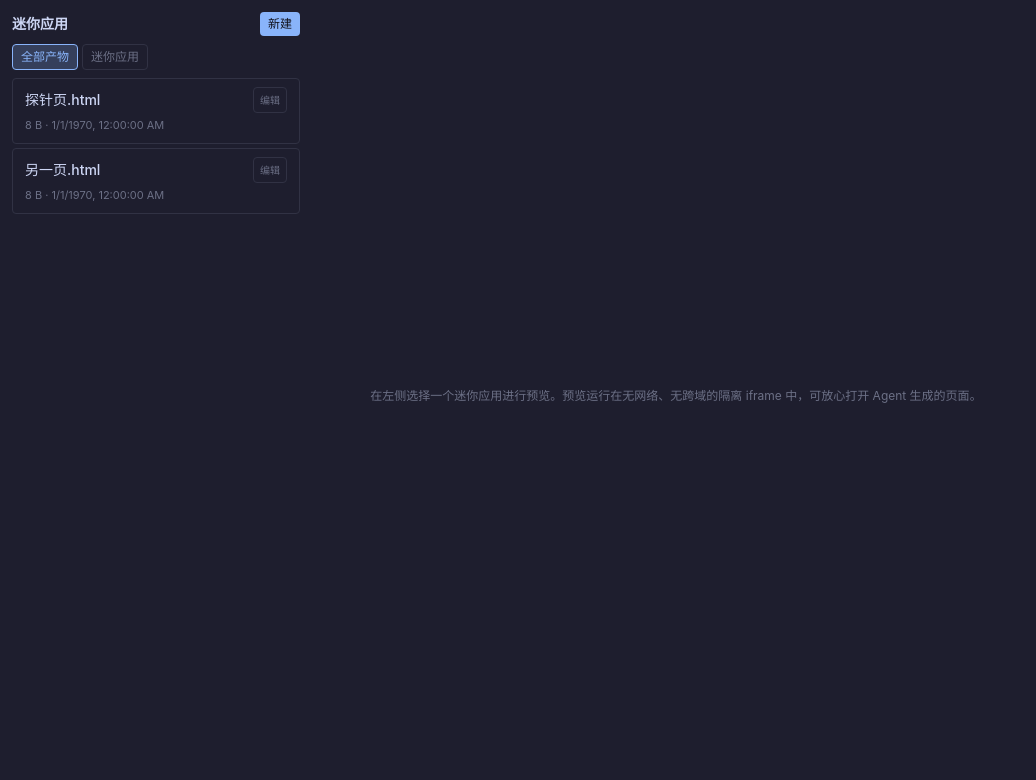
Test: §326②「设为应用」那发：三种到货要分开 › 回失败对象 ⇒ 不许弹「已设为迷你应用」，原因要上屏
Expected: the button "探针页.html" is shown, [25, 90, 245, 110]
Click the 1st button "编辑" at {"x": 270, "y": 100}, box [253, 87, 287, 113]
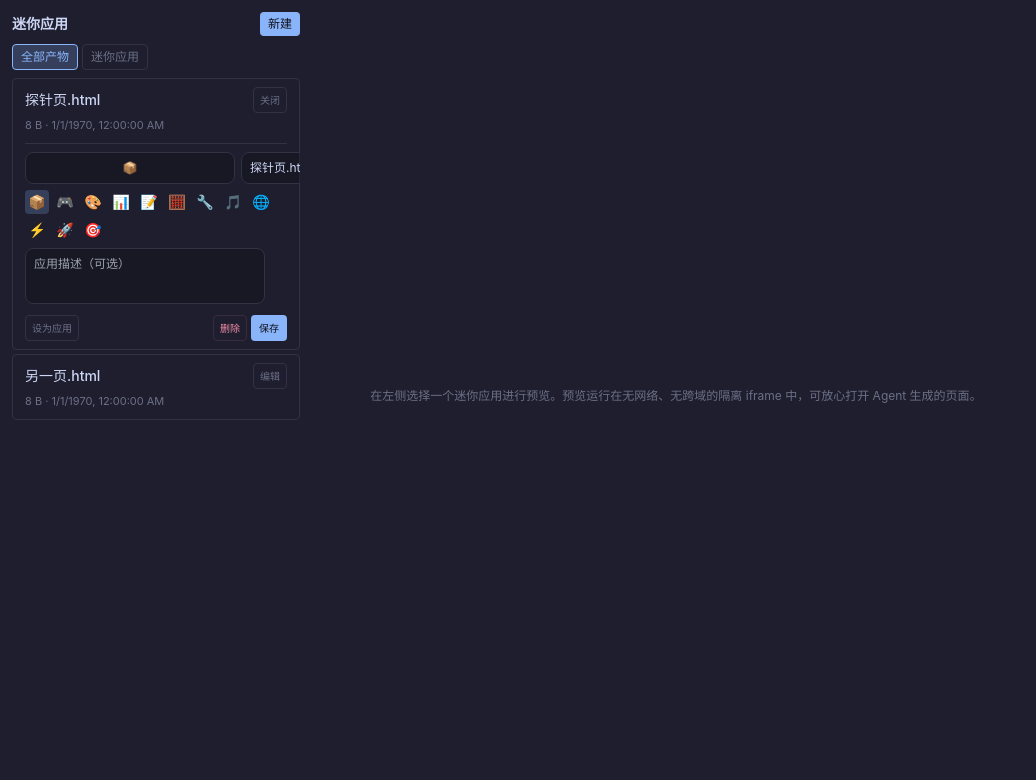
Result: the text "设为应用" is shown
Click the button "设为应用" at {"x": 52, "y": 328}, box [25, 315, 79, 341]
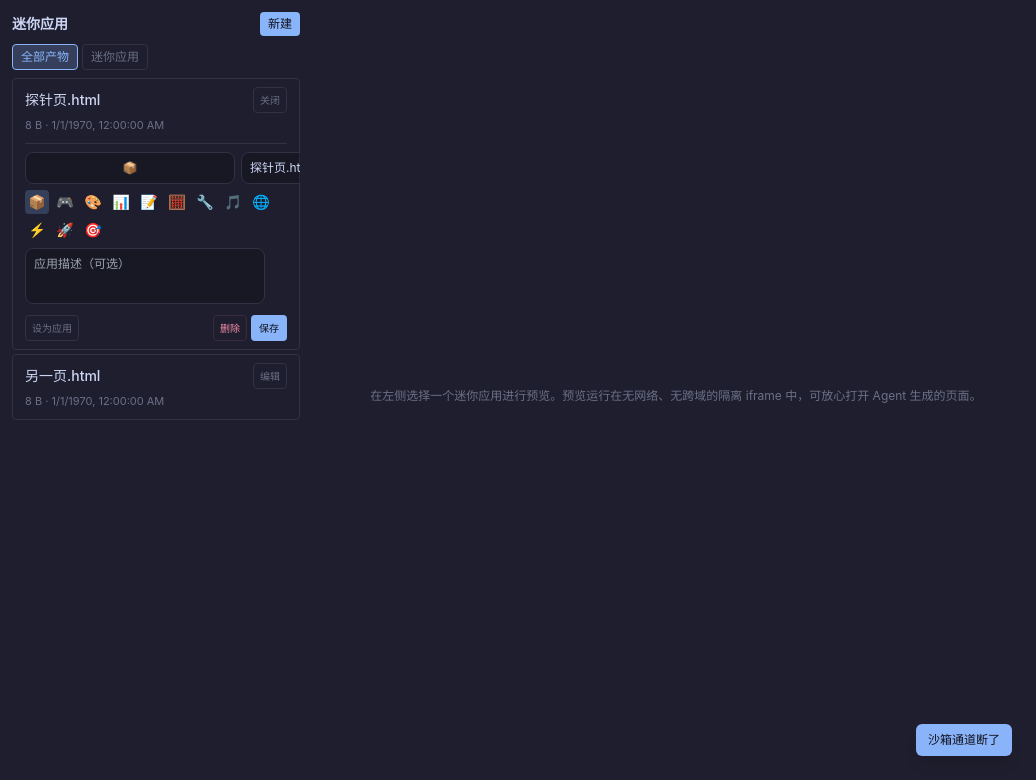
Result: the text "沙箱通道断了" is shown at [916, 724, 1012, 756]
